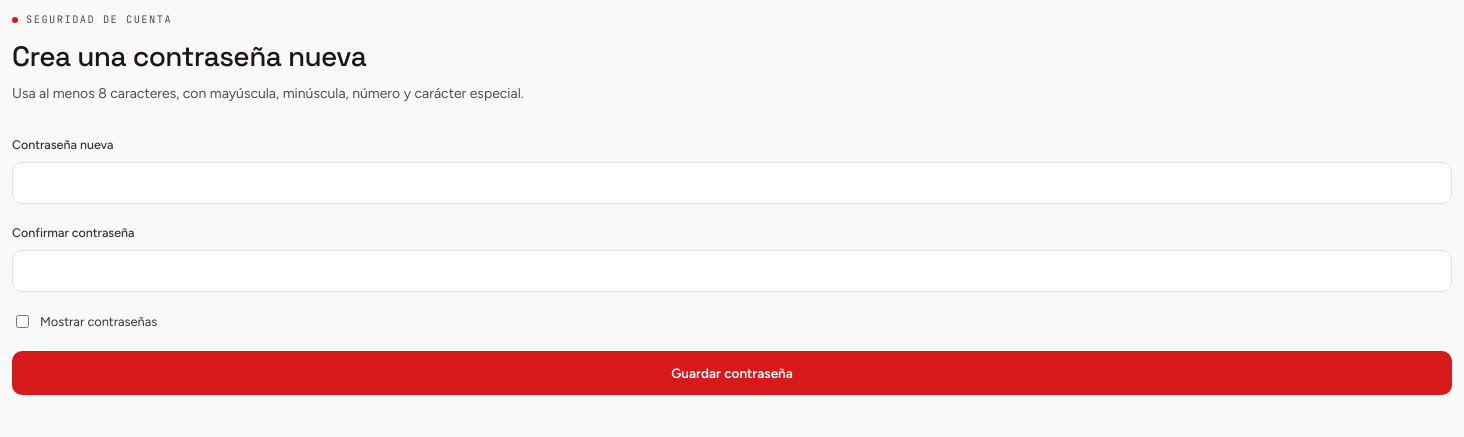
Test: ResetPasswordPage › rejects a short password and explains the policy
Type "Ab1!xyz" into the password field labelled "Contraseña nueva".
click(732, 183); type("Ab1!xyz")  # box [12,162,1452,204]
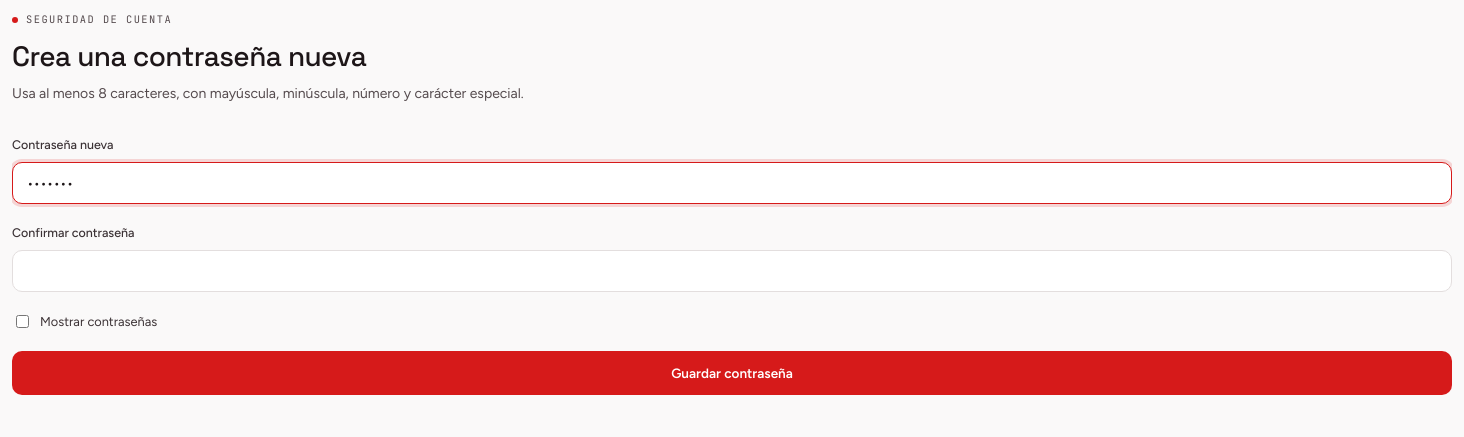
Type "Ab1!xyz" into the password field labelled "Confirmar contraseña".
click(732, 271); type("Ab1!xyz")  # box [12,250,1452,292]
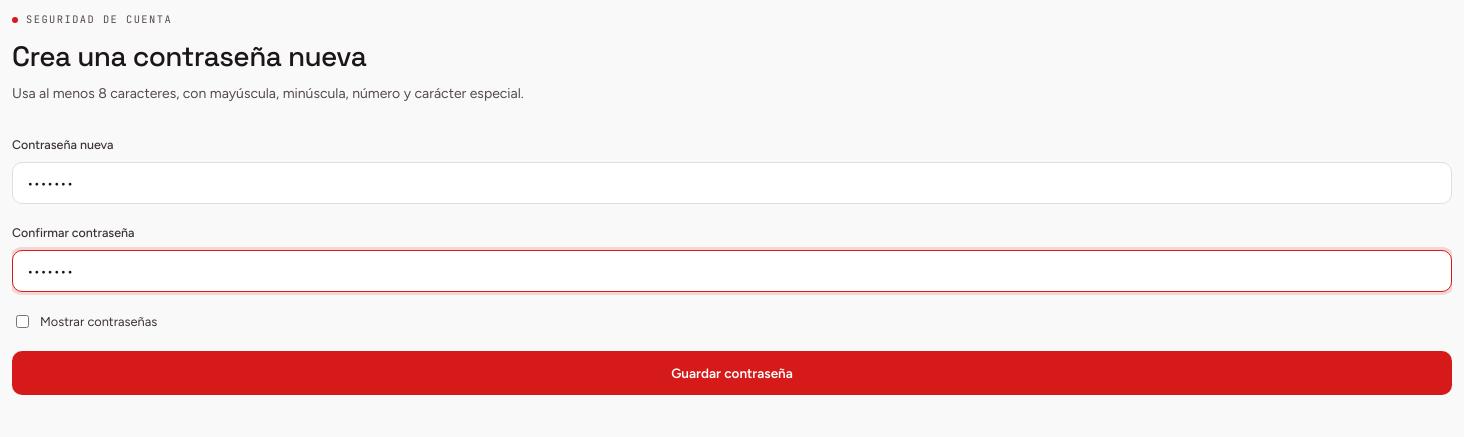
Click the button "Guardar contraseña".
click(732, 373)  # box [12,351,1452,395]
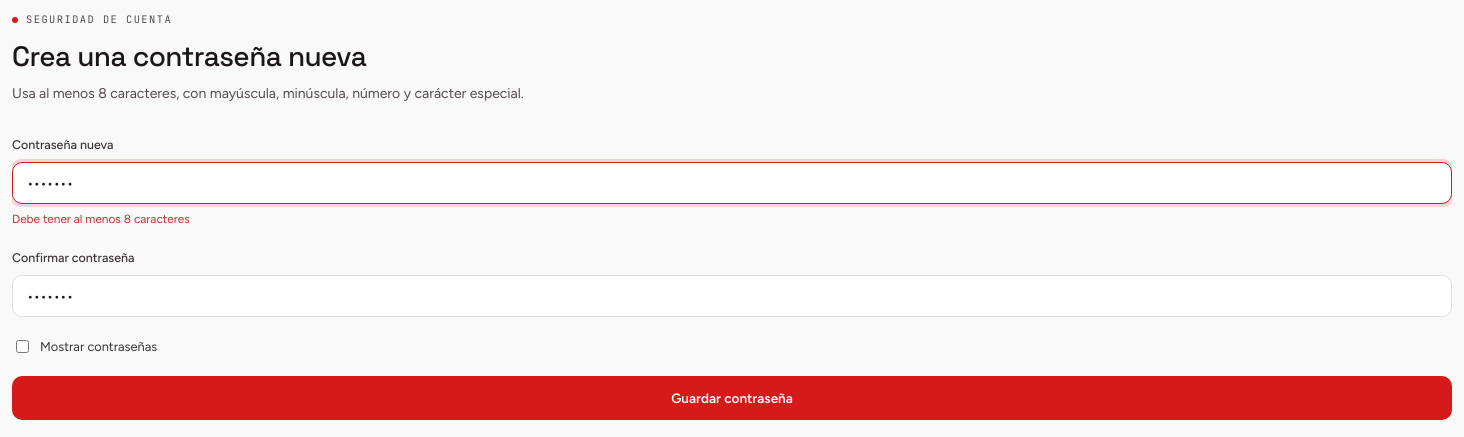
Expected: the text "Debe tener al menos 8 caracteres" is shown, [12,212,190,226]
